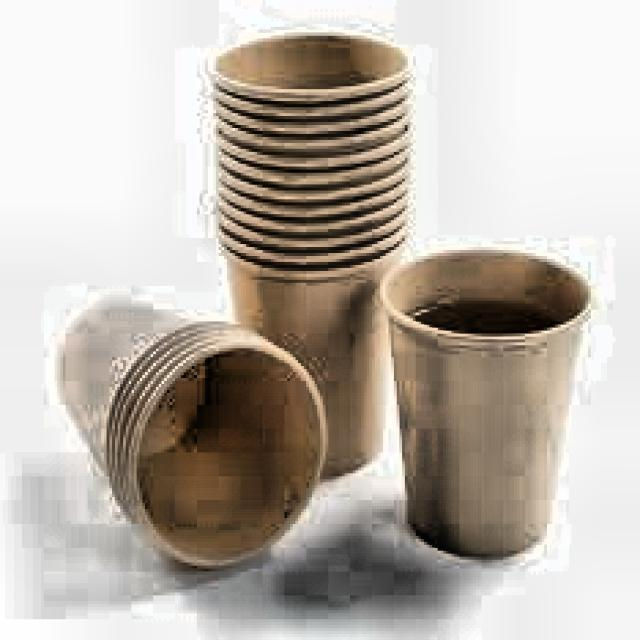Cup: (201, 21, 408, 485), (47, 290, 330, 590), (372, 216, 587, 582)
